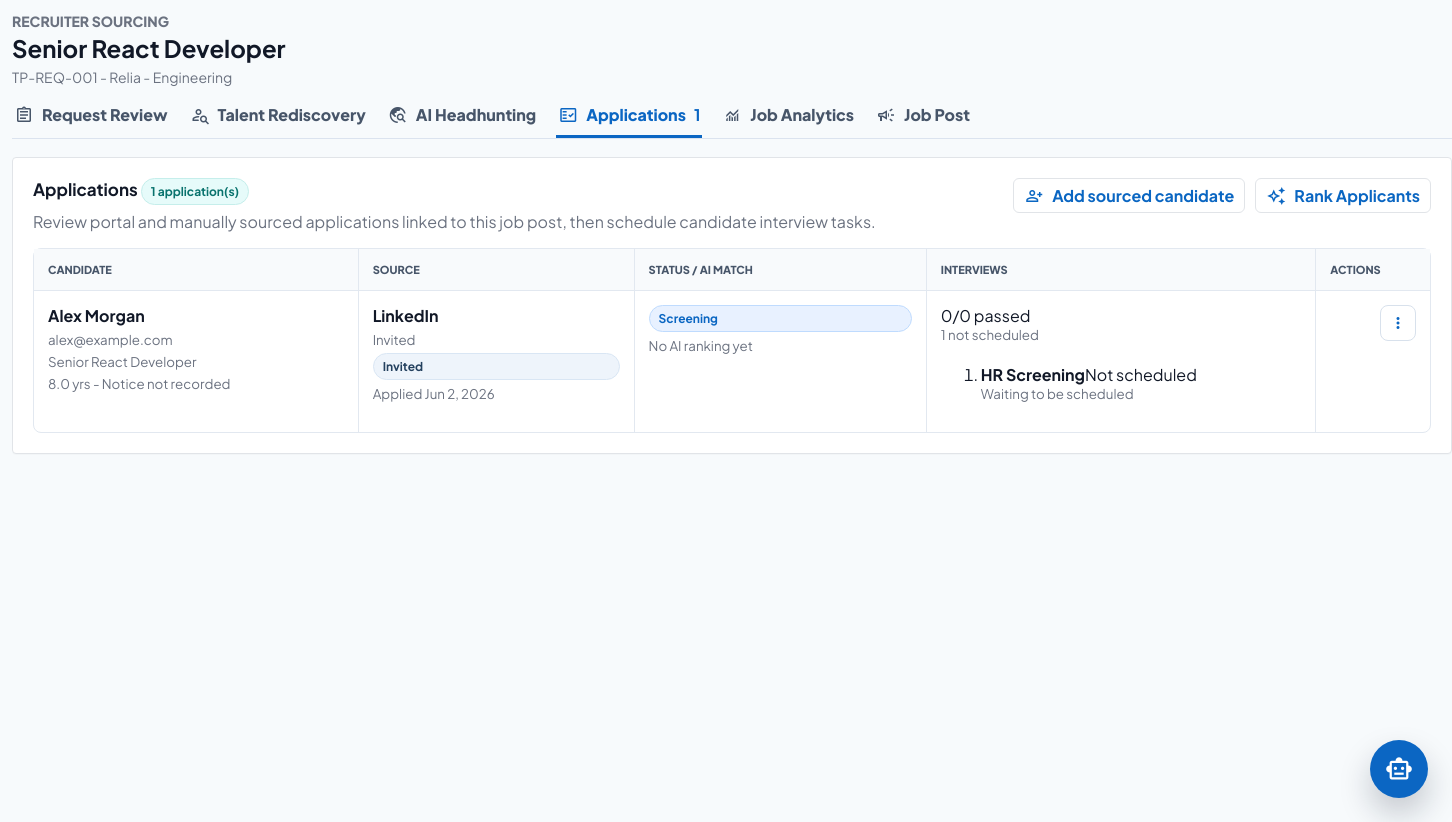
Scenario: RecruiterSourcingComponent skill picker behavior › hides shortlist when the candidate is already in screening
Click the button with class "action-menu-trigger": (1398, 323) [1380,305,1416,341]
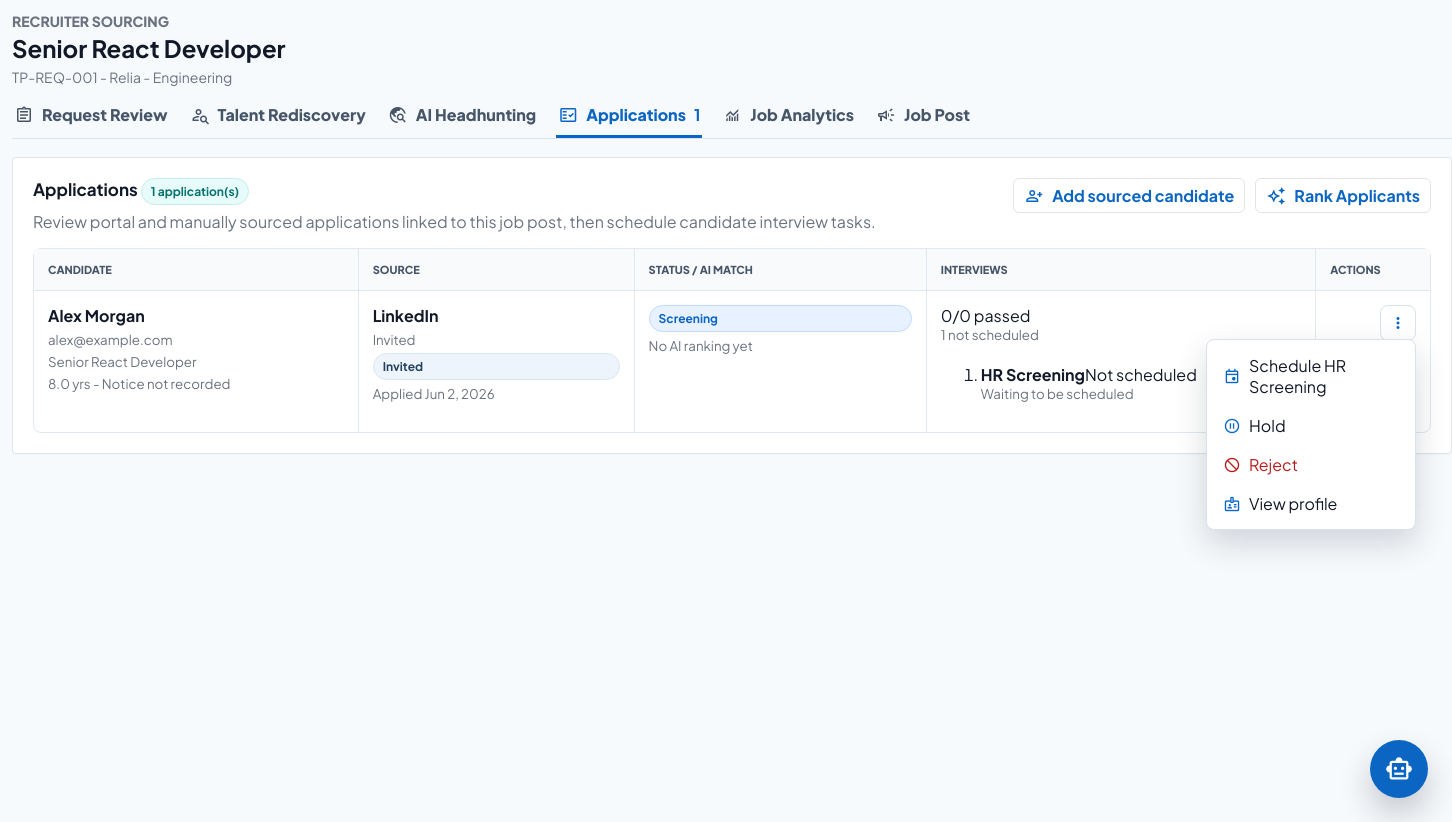
Expected: the menu with class "action-dropdown" shows "Schedule HR Screening", [1213,346,1409,406]
Expected: the menu with class "action-dropdown" shows "Hold", [1213,406,1409,445]
Expected: the menu with class "action-dropdown" shows "Reject", [1213,445,1409,484]
